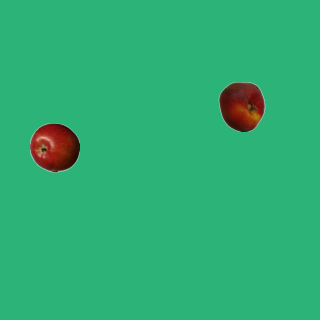Apple Braeburn: (29, 122, 79, 172)
Nectarine Flat: (216, 81, 266, 131)
